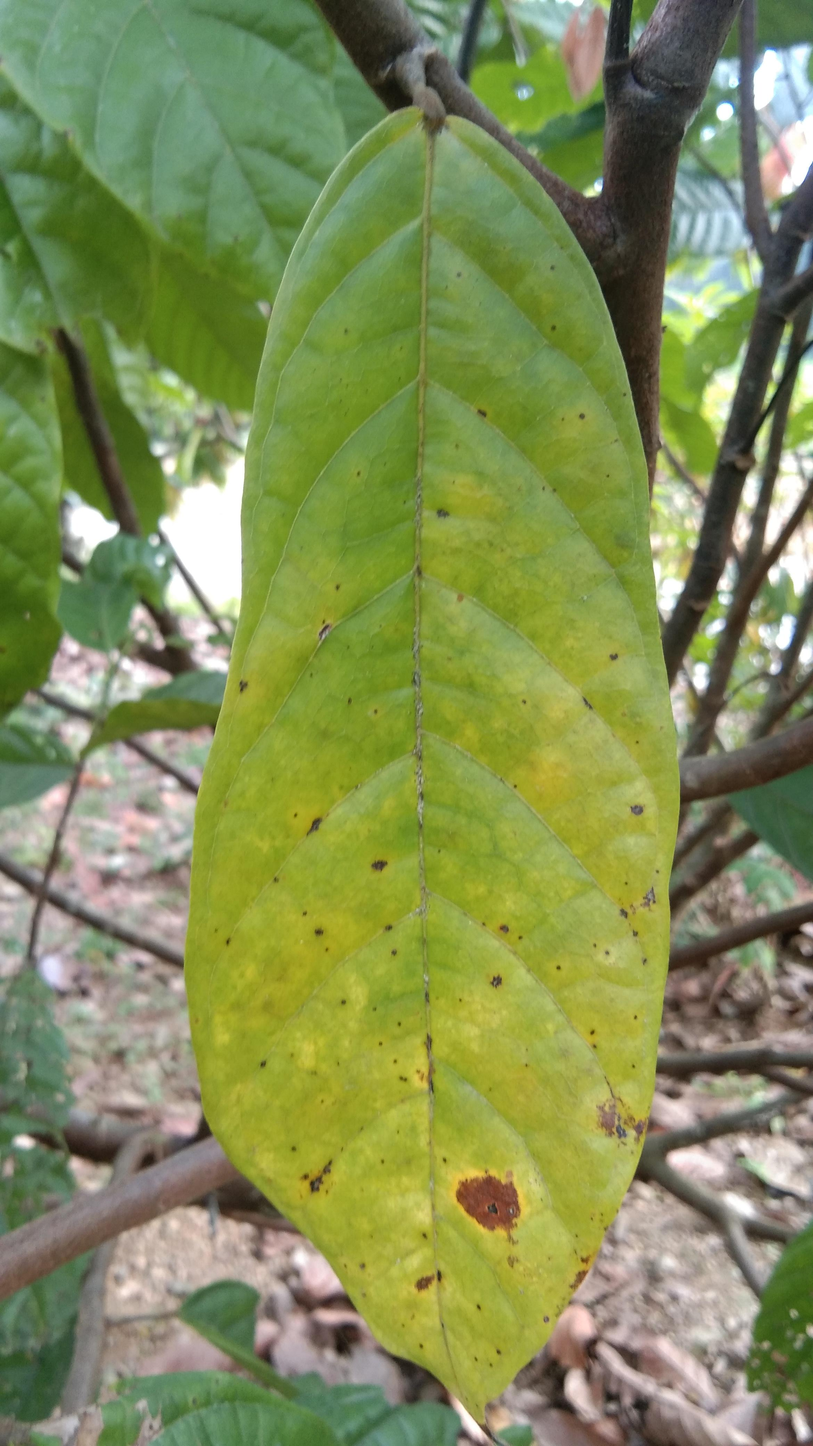deficiencia_potasio: (177, 104, 681, 1439)
